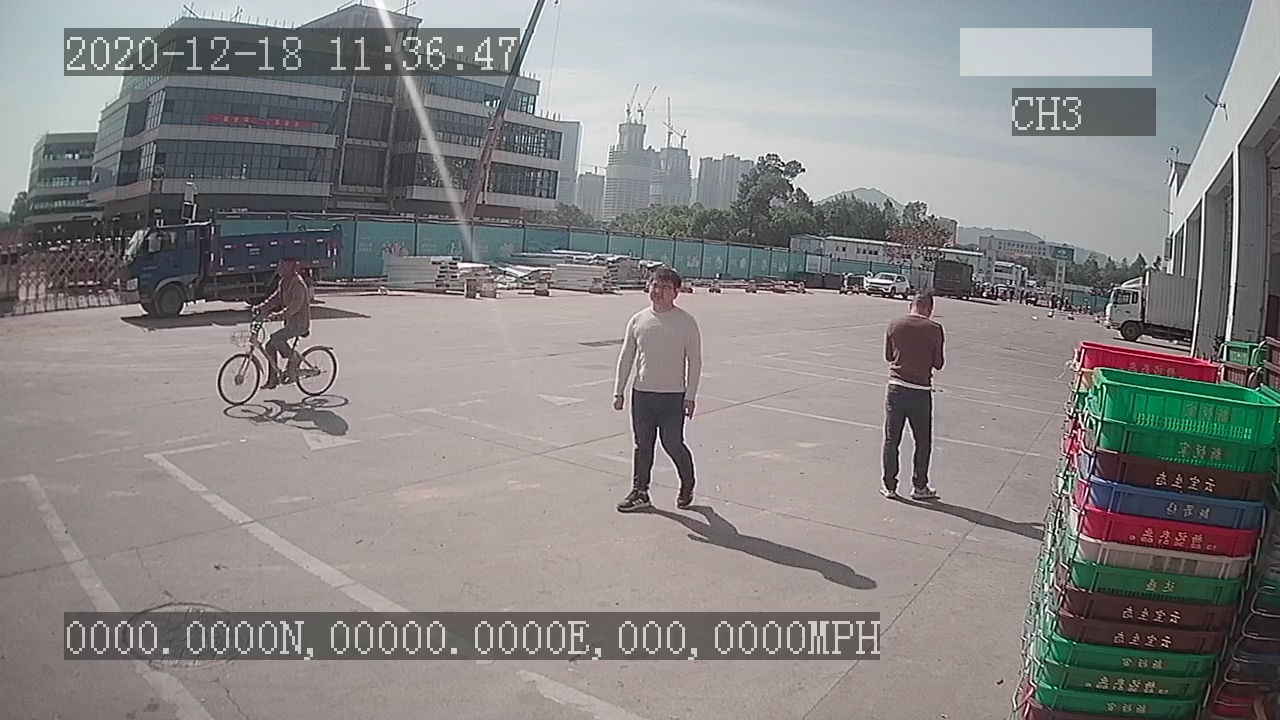person: (612, 262, 706, 516), (874, 290, 951, 504)
